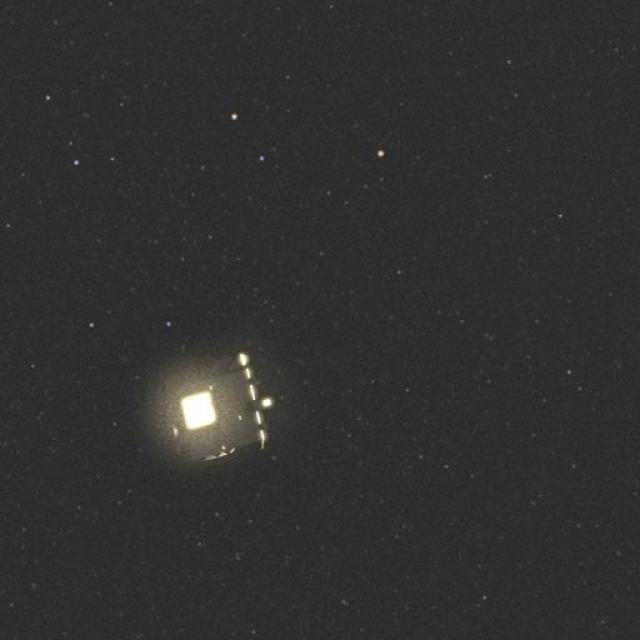proba_3_ocs: (134, 318, 292, 495)
